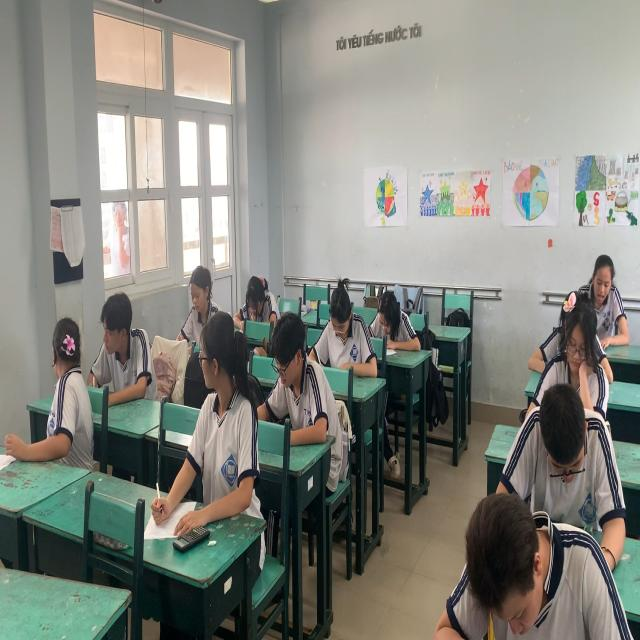cheating: (188, 310, 260, 523), (27, 307, 93, 472)
not_cheating: (451, 478, 599, 627), (522, 384, 614, 524), (266, 309, 332, 457), (536, 295, 609, 403), (95, 292, 154, 408), (324, 277, 364, 387), (180, 266, 219, 348), (584, 244, 618, 337), (376, 280, 412, 366), (238, 264, 276, 332)
